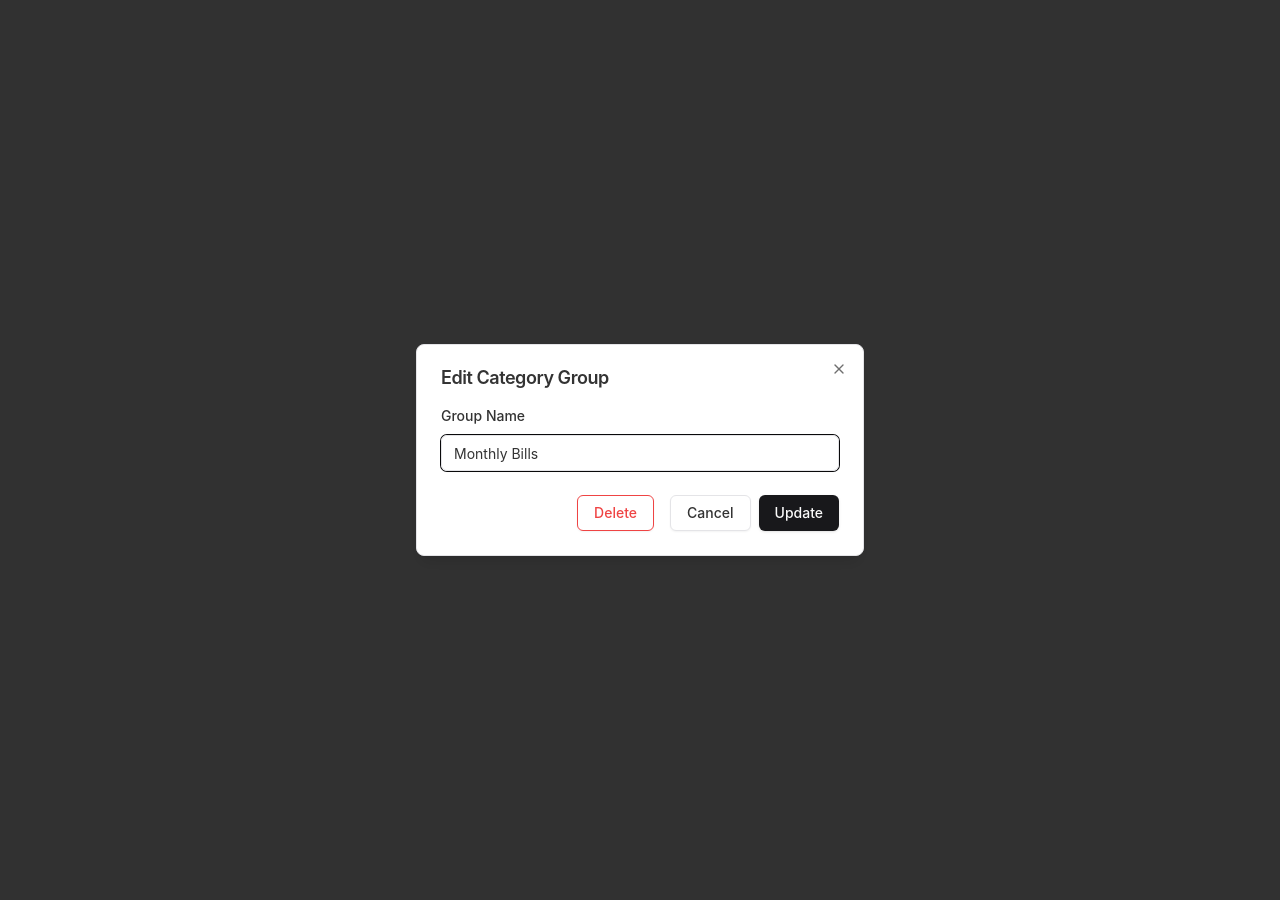
it: CategoryGroupModal › Loading states › should disable delete button while deleting
Click the button "Delete": click(616, 513) [577,495,654,531]
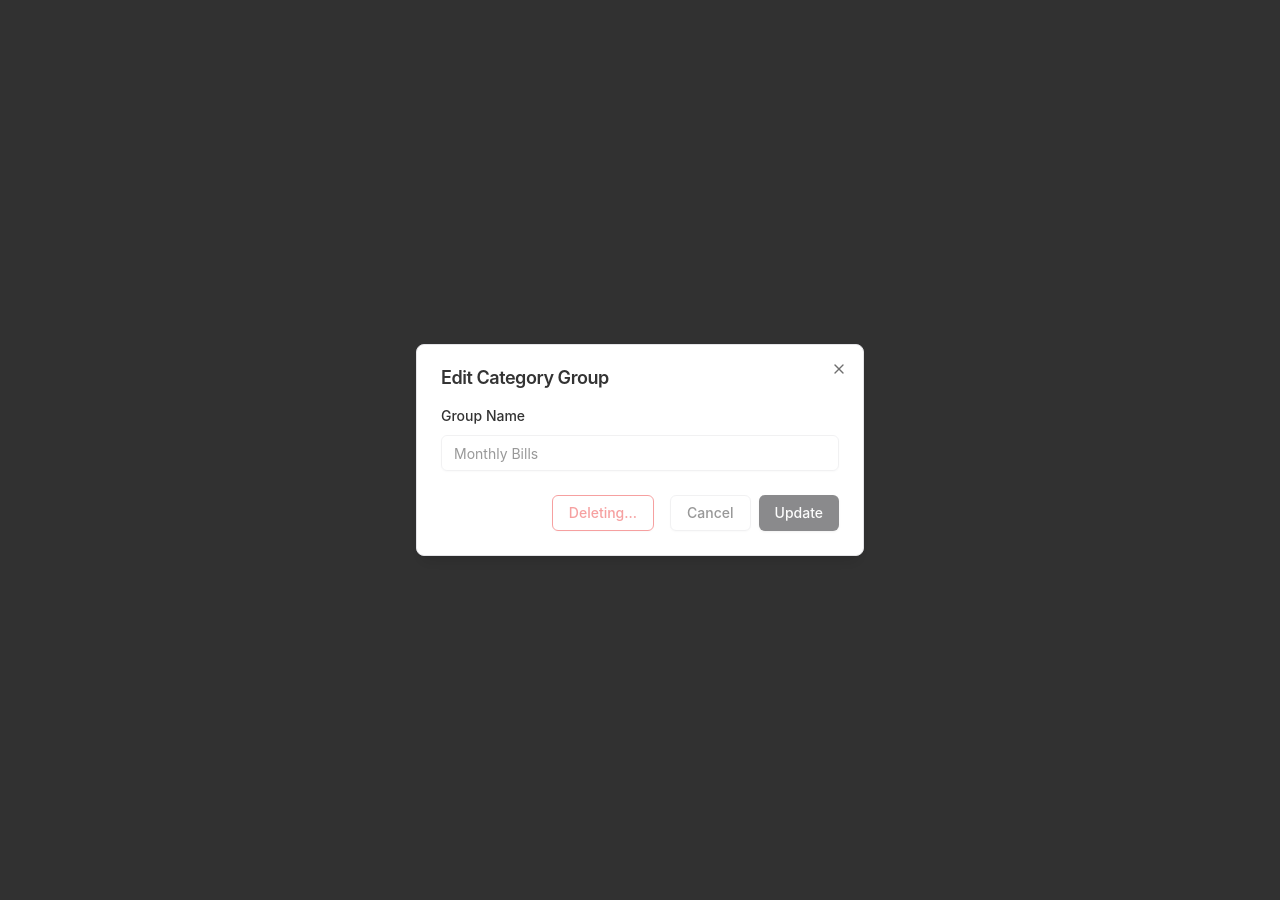
Result: the button "Deleting..." is disabled at [552,495,654,531]
